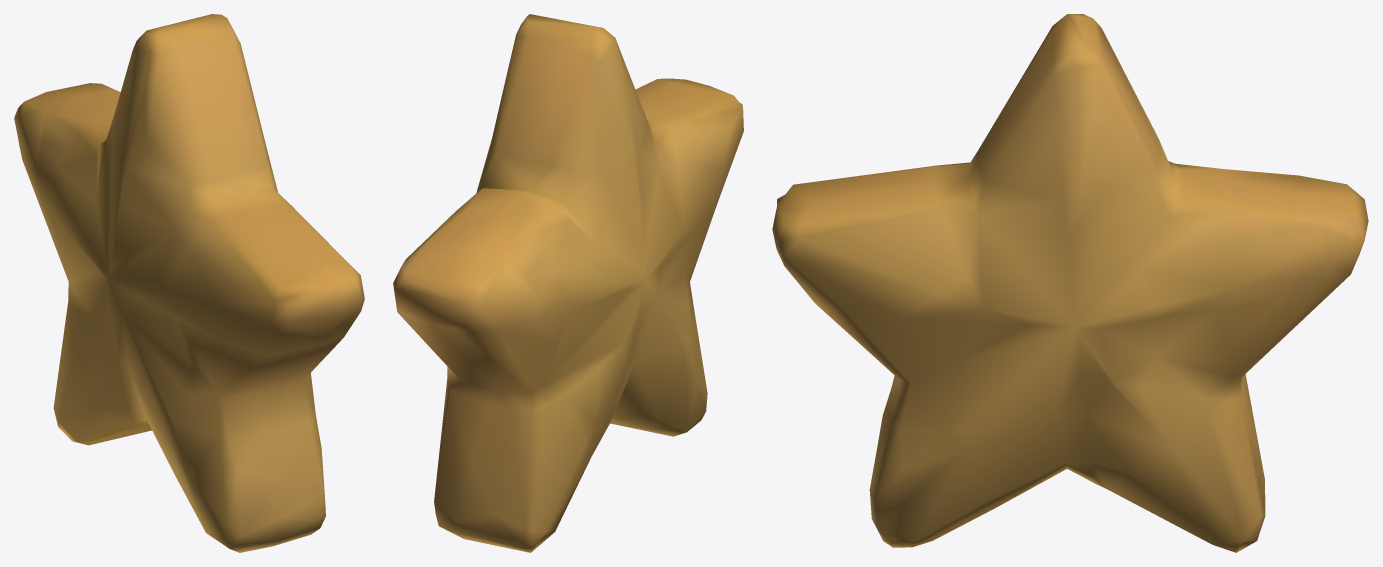
Rendered from glowing-golden-five-point-star-smooth-rounded-shin.glb.
3 renders of one model, left to right at view 1: azimuth 30°, elevation 25°; view 2: azimuth 150°, elevation 25°; view 3: azimuth 270°, elevation 25°, orthographic. The views are drawn at different scales.
Visible parts, largest first — view 1: tripo_node_e775a988-170a-40f1-8872-e2dc939e6340; view 2: tripo_node_e775a988-170a-40f1-8872-e2dc939e6340; view 3: tripo_node_e775a988-170a-40f1-8872-e2dc939e6340.
Boxes of the visible parts, <box> form: tripo_node_e775a988-170a-40f1-8872-e2dc939e6340: <box>14,14,364,552</box>; tripo_node_e775a988-170a-40f1-8872-e2dc939e6340: <box>393,14,743,552</box>; tripo_node_e775a988-170a-40f1-8872-e2dc939e6340: <box>772,14,1368,552</box>.
Size of the model in its own units: 0.3304 by 0.9298 by 0.9979.
Materials: 1 (1 with a texture image).
